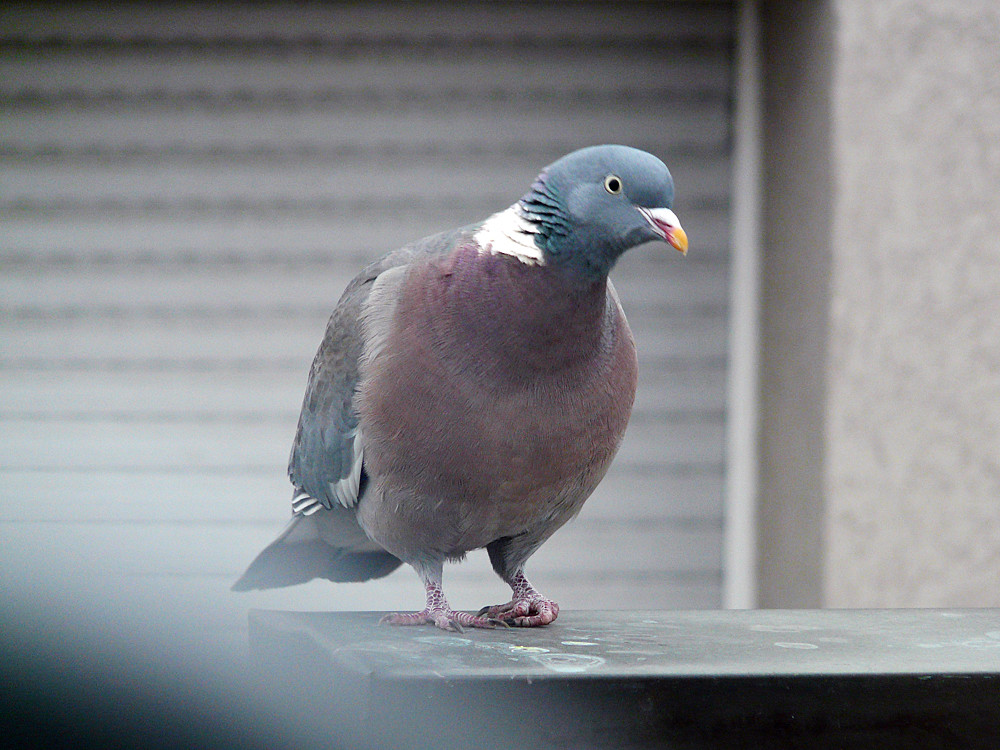pigeon: (223, 137, 702, 644)
